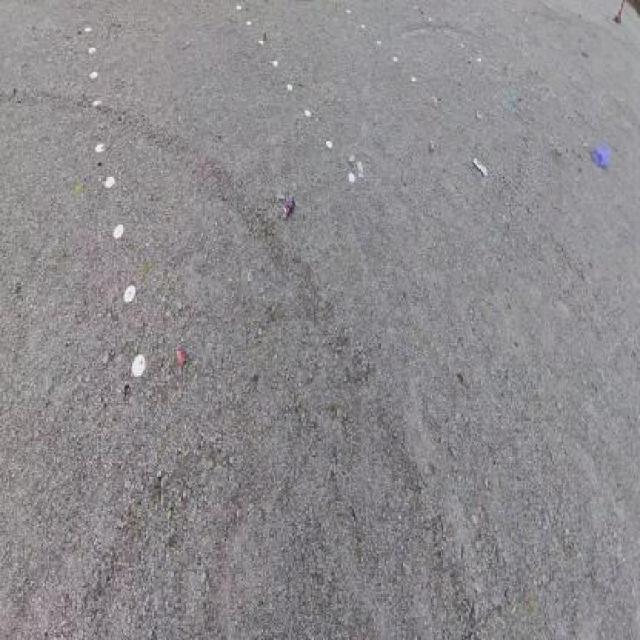Garbage: (591, 145, 611, 170), (471, 157, 488, 177), (175, 348, 186, 371), (357, 160, 364, 180), (429, 139, 435, 154), (511, 94, 517, 107), (348, 154, 356, 163), (276, 193, 285, 200), (475, 113, 482, 120), (246, 272, 251, 281)
